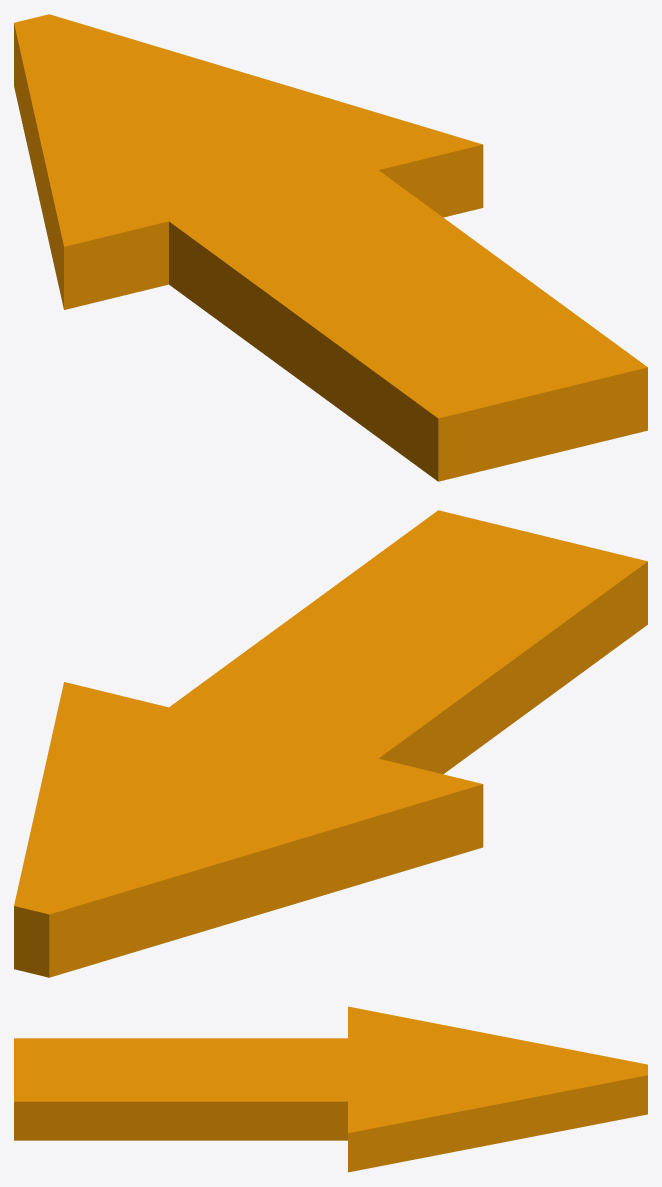
File: arrowPrototype.fbx
The picture shows the model from 3 angles, top to bottom: view 1: azimuth 30°, elevation 25°; view 2: azimuth 150°, elevation 25°; view 3: azimuth 270°, elevation 25°; orthographic projection. The views are drawn at different scales.
Parts seen in each view (by area): view 1: Plane; view 2: Plane; view 3: Plane.
Part boxes in pixels (x1,y1,x2,y2): Plane: (14, 14, 647, 481); Plane: (14, 510, 647, 977); Plane: (14, 1006, 647, 1172).
Size of the model in its own units: 200 by 28.82 by 423.
